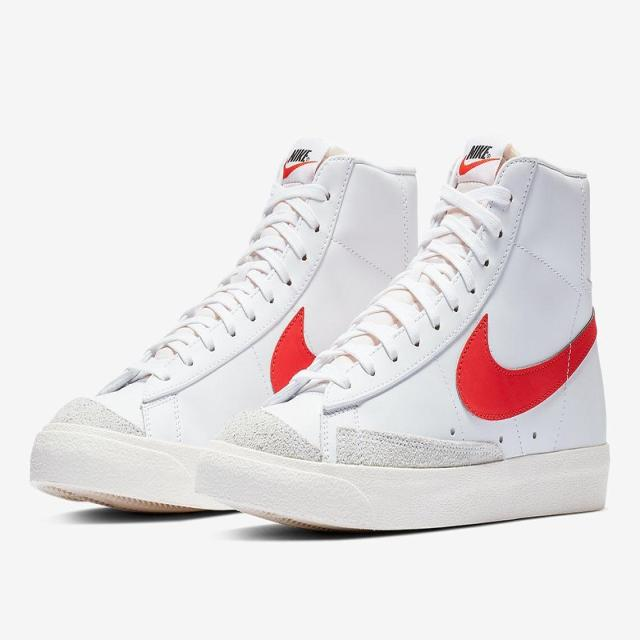shoe: (189, 128, 613, 546), (18, 138, 424, 526)
